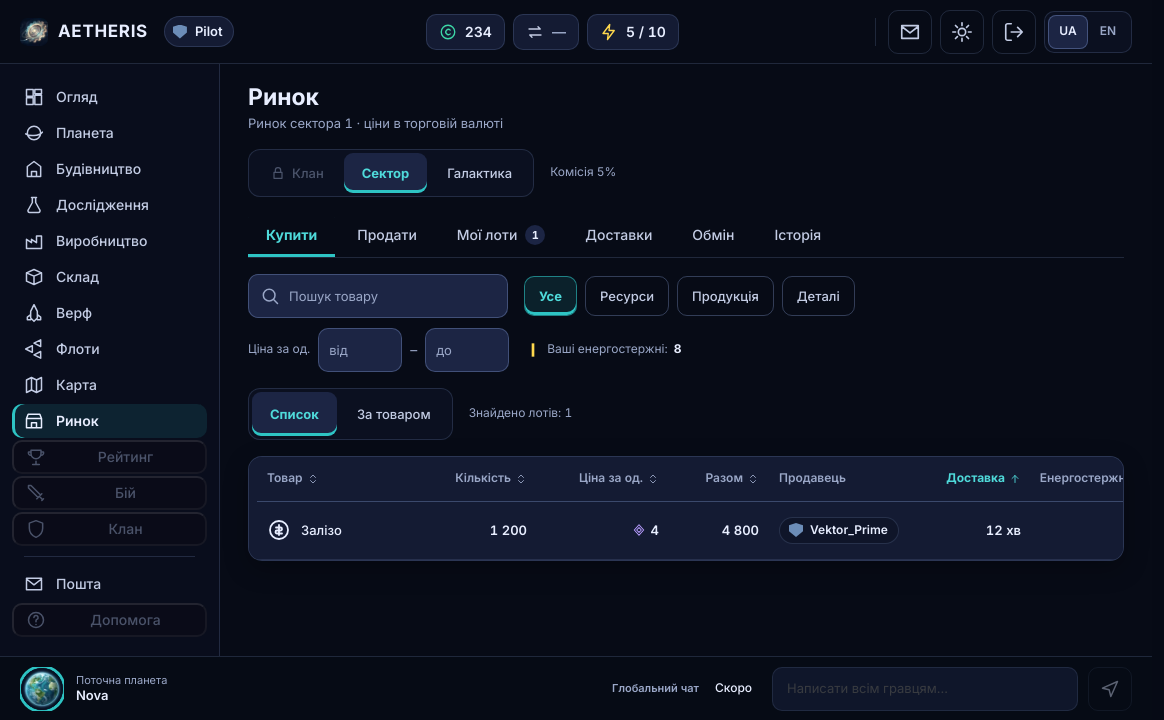
the tab Sell › counts the fee of the level in the summary
Click the tab "Продати" at coordinates (387, 235), box [339,213,435,257]
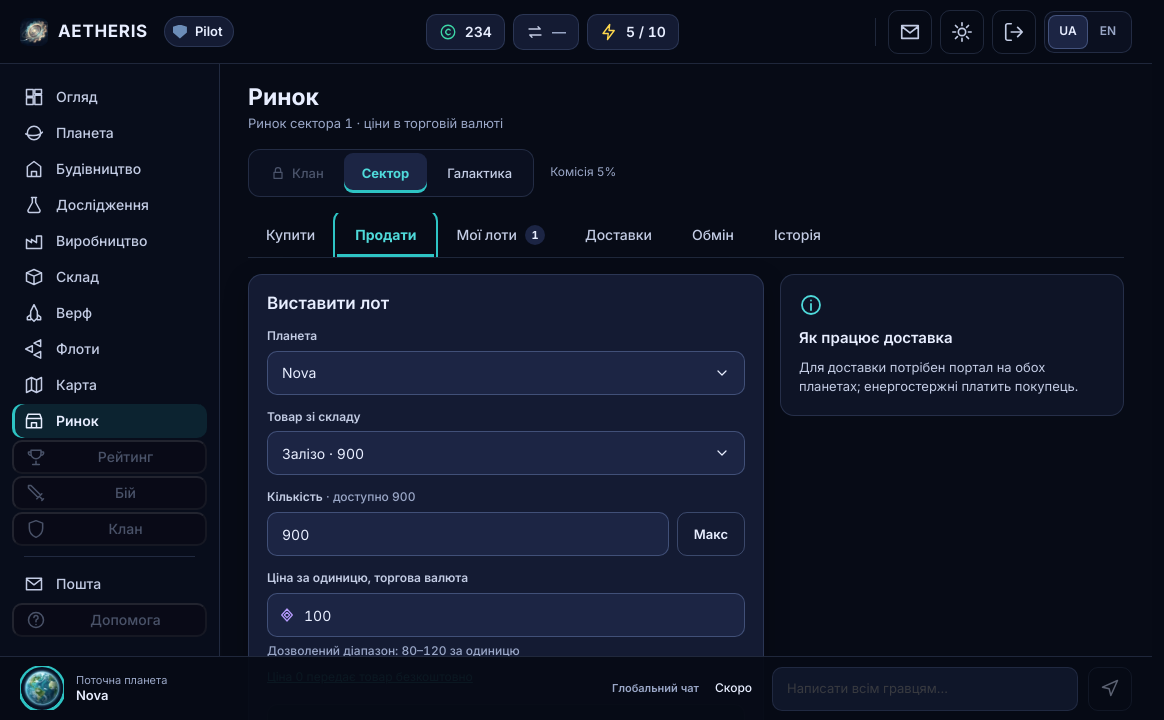
Check: the field labelled "Ціна за одиницю, торгова валюта" holds "100", box [267,593,745,637]
Replace the text in the field labelled "Кількість · доступно 900" with "10" at coordinates (468, 534), box [267,512,669,556]
(page scrolled)
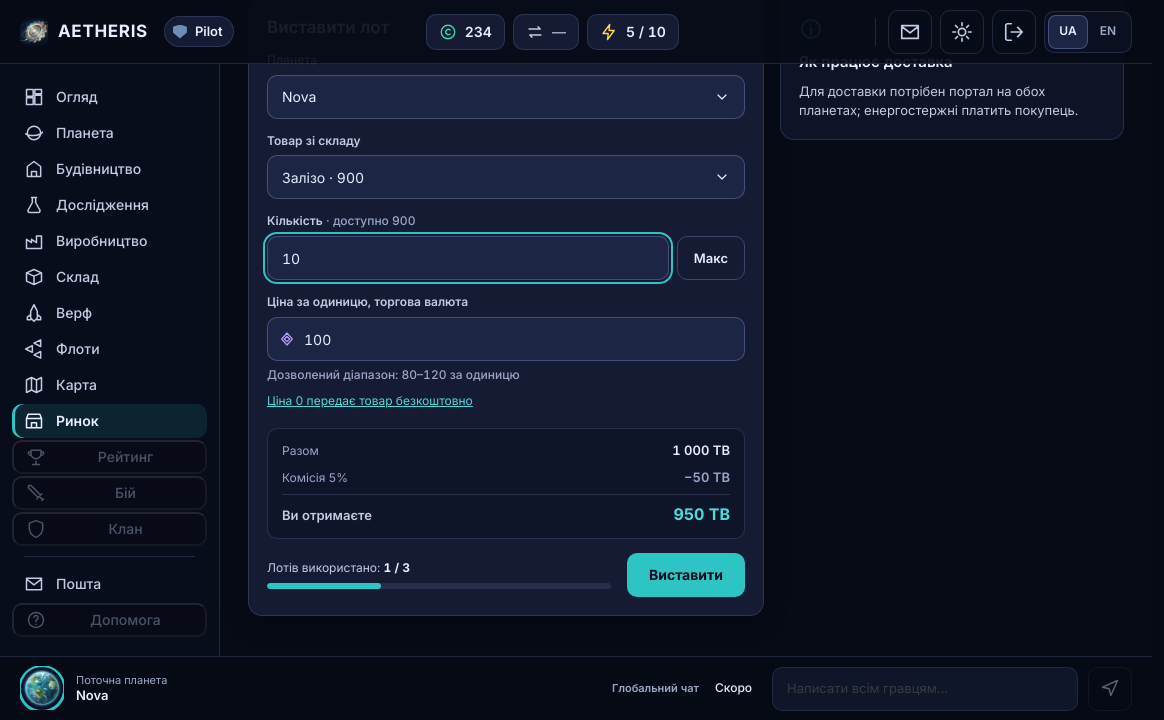
Check: the text "1 000 ТВ" is shown, box [672,441,730,459]
Check: the text "−50 ТВ" is shown, box [684,468,730,486]
Check: the text "950 ТВ" is shown, box [673,504,730,526]
